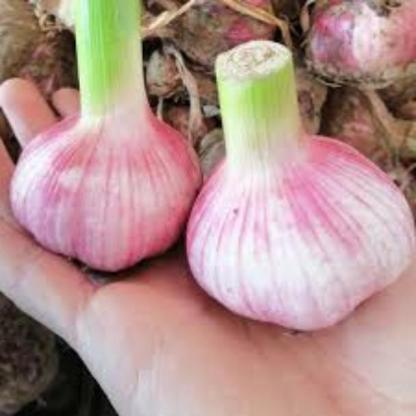garlic: (177, 49, 416, 344), (0, 0, 204, 279)
